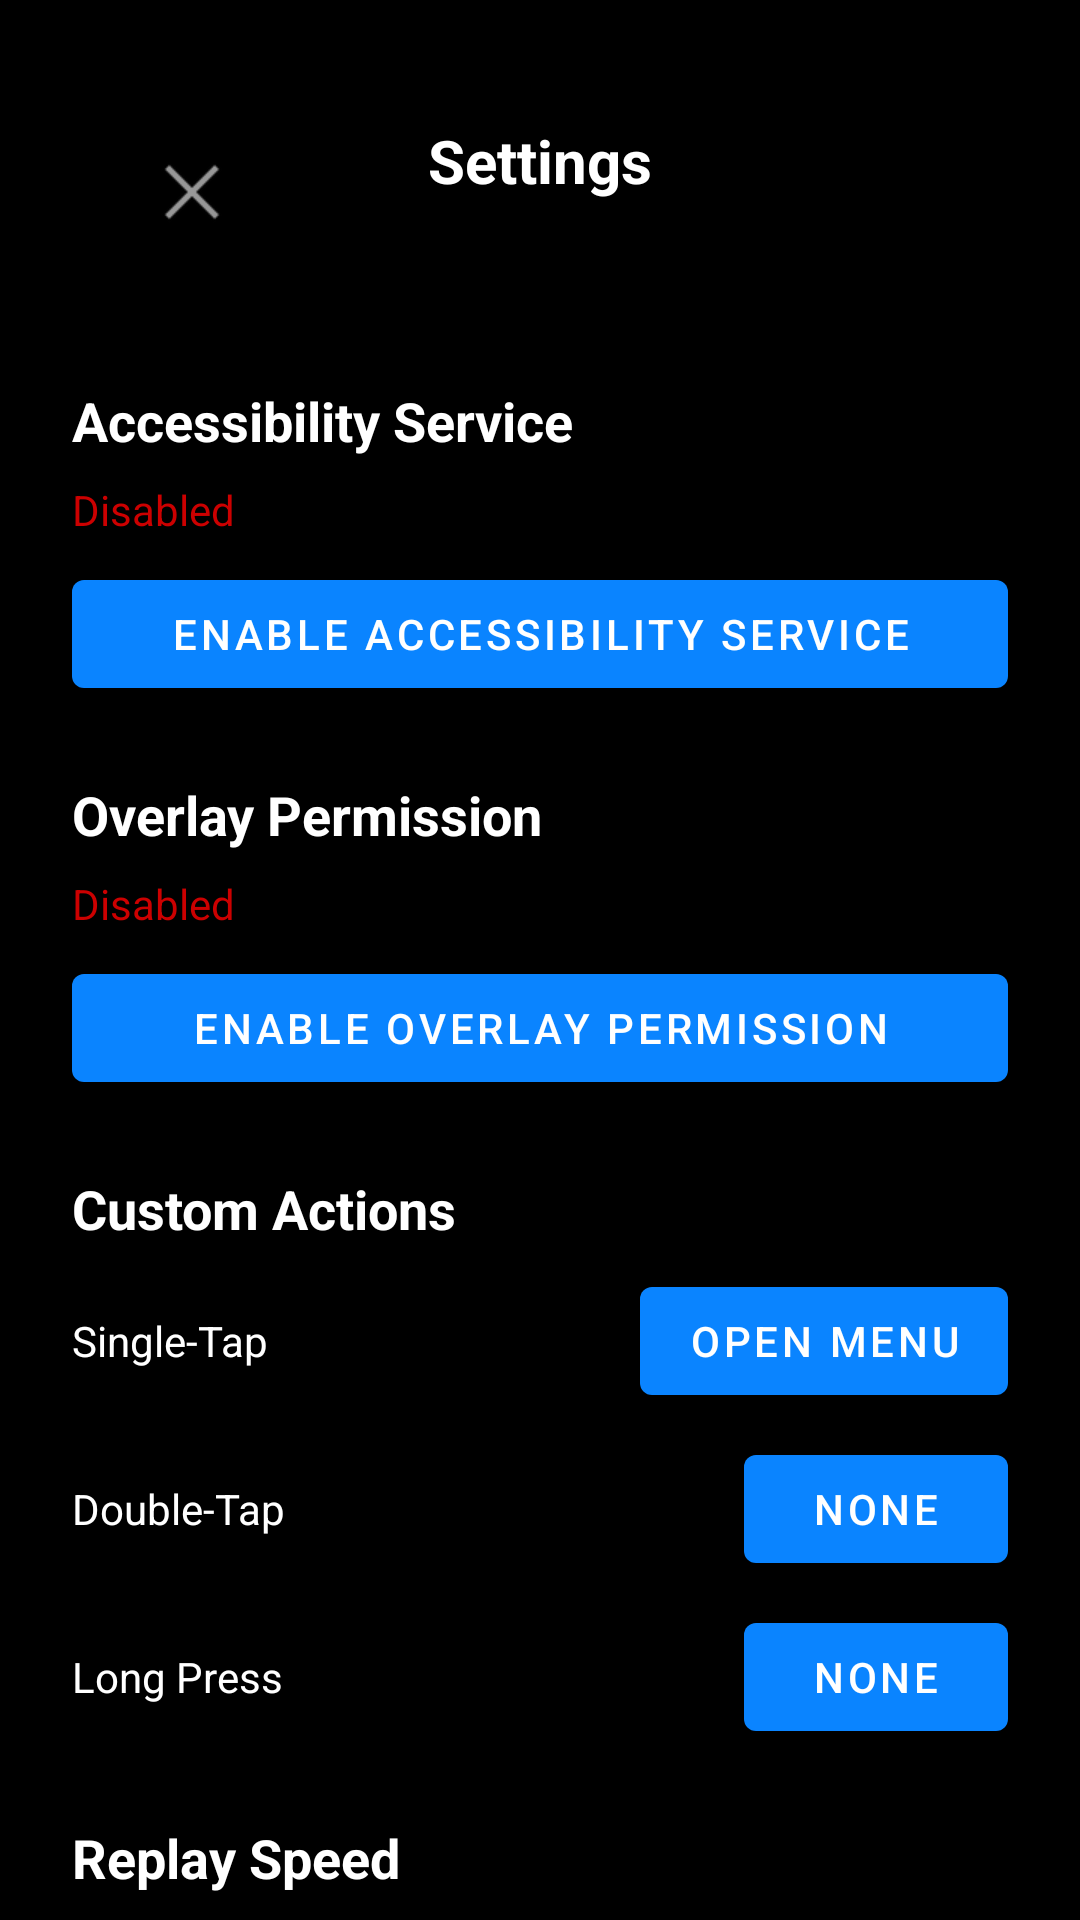

Where to tap for icons on this 1080px×1920px app screen, as (x=x, y=y):
close clear cancel: (x=192, y=192)
